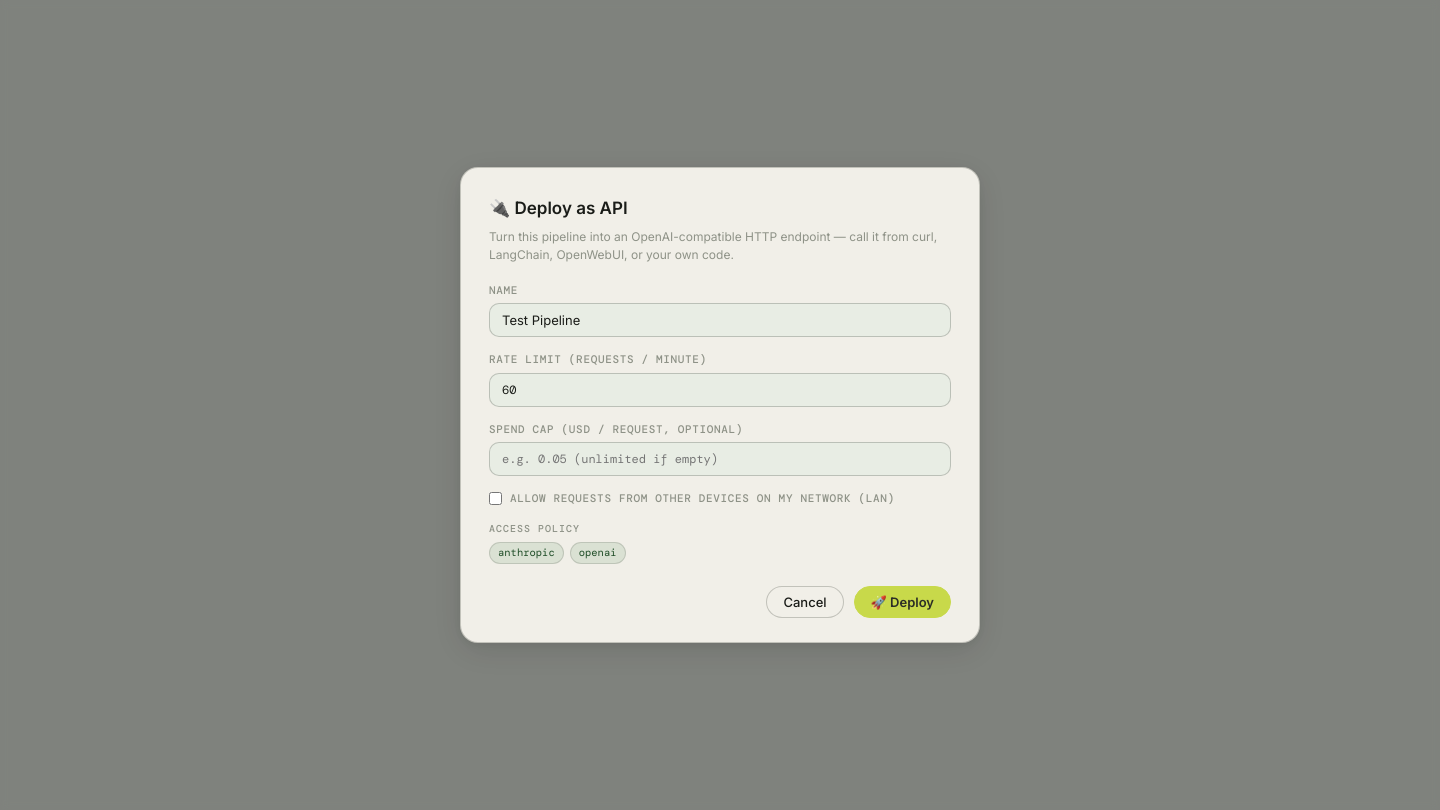
Scenario: DeployModal — create mode › shows the key exactly once, right after a successful deploy
The width and height of the screenshot is (1440, 810).
Step 1. Click the button with test id "deploy-submit" → (902,602), box [854,586,951,618]
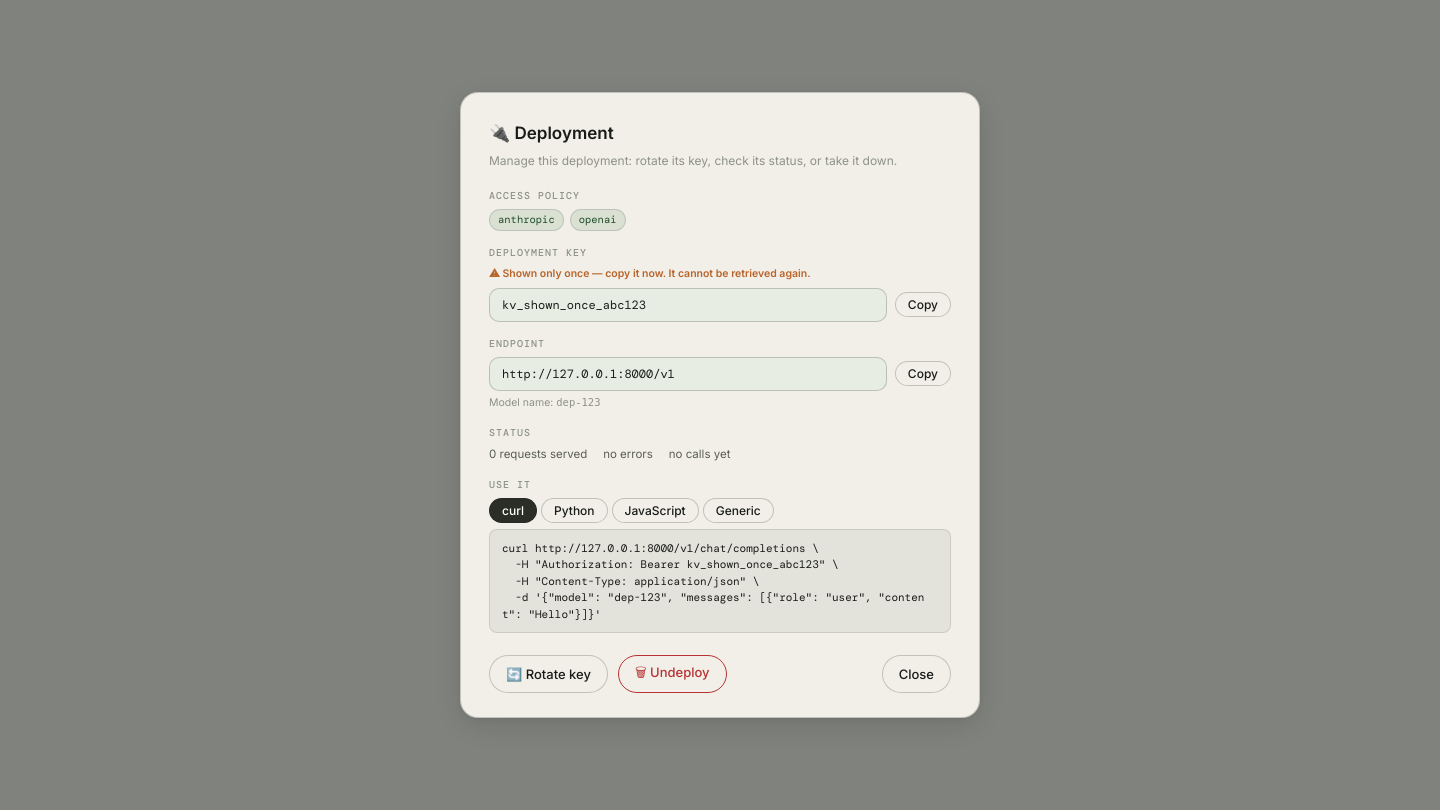
Expected: the field with test id "deploy-key-value" holds "kv_shown_once_abc123", [489,288,887,322]
Expected: the text "Shown only once" is shown, [489,267,810,280]
